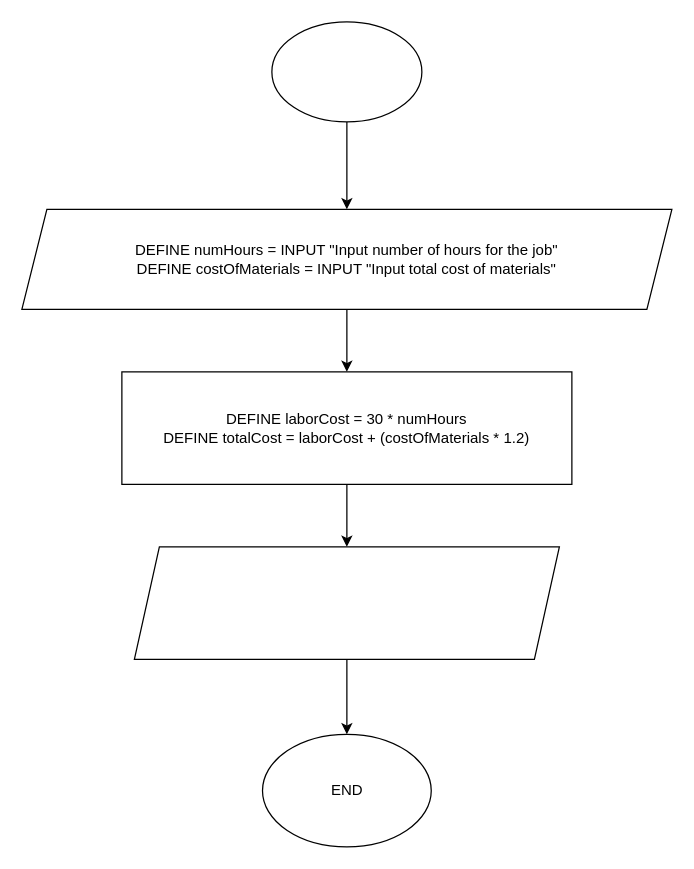
Image size: 694x869. Some labels were removed from this diagram. The shapes that lost their labels are listed below. From the top down, each one's centre as x and y in pixels, then its label:
[346,71]: START
[346,602]: OUTPUT totalCost OUPUT "End of Program"
